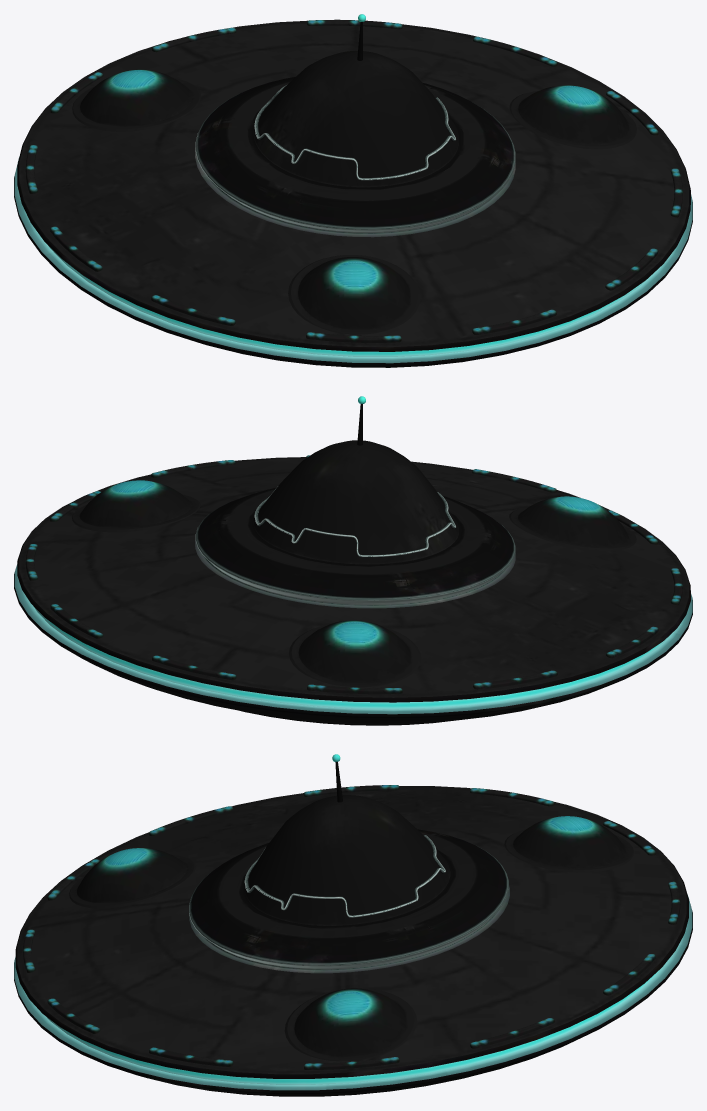
File: ufo.glb
The picture shows the model from 3 angles, top to bottom: view 1: azimuth 30°, elevation 25°; view 2: azimuth 150°, elevation 25°; view 3: azimuth 270°, elevation 25°; orthographic projection.
Parts seen in each view (by area): view 1: Object_5; view 2: Object_5; view 3: Object_5.
Part boxes in pixels (x1,y1,x2,y2): Object_5: [14, 14, 692, 367]; Object_5: [14, 396, 692, 725]; Object_5: [14, 754, 692, 1096].
Size of the model in its own units: 0.512 by 0.2192 by 0.5094.
1 material, 1 textured.
